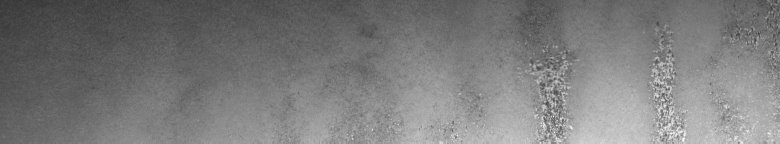hc: (520, 41, 579, 136)
